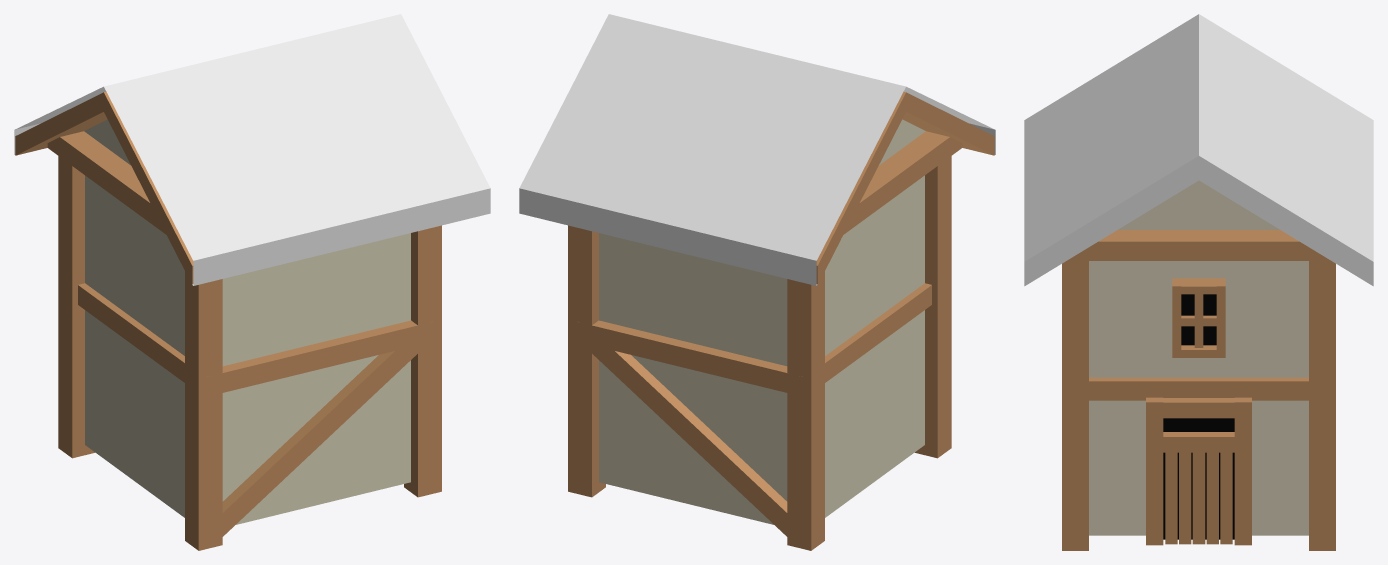
The model's file is CasetaGrande.fbx.
3 renders of one model, left to right at view 1: azimuth 30°, elevation 25°; view 2: azimuth 150°, elevation 25°; view 3: azimuth 270°, elevation 25°, orthographic. The views are drawn at different scales.
Parts seen in each view (by area): view 1: Cube.011; view 2: Cube.011; view 3: Cube.011.
Part boxes in pixels (x1,y1,x2,y2): Cube.011: (14,14,490,550); Cube.011: (519,14,995,550); Cube.011: (1024,14,1373,550).
Size of the model in its own units: 1404 by 1890 by 1463.
